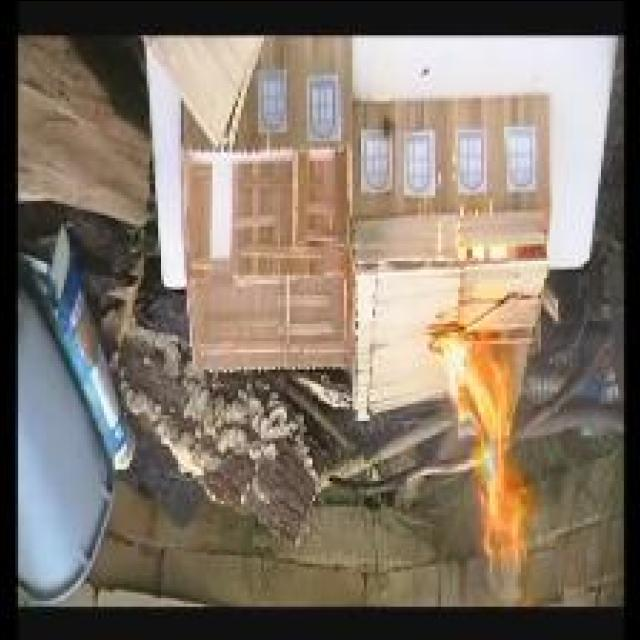Fire: (442, 338, 536, 562)
